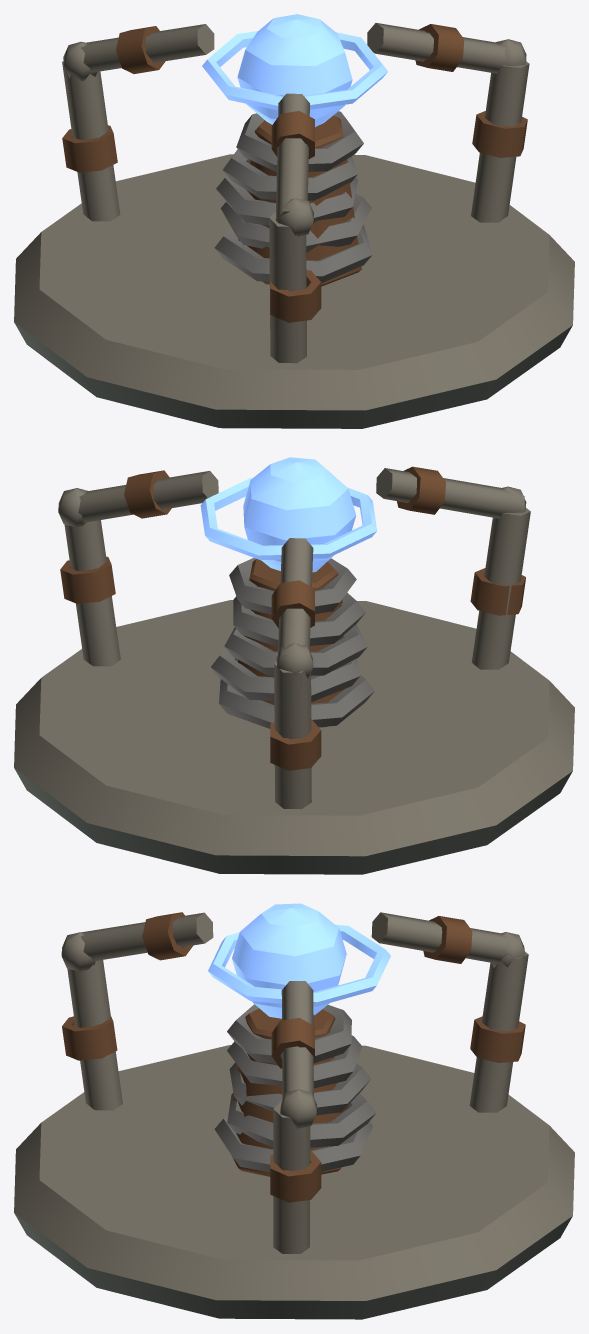
Rendered from R4D_EMPTrap.fbx.
3 views of the same model, one above another, from view 1: azimuth 30°, elevation 25°; view 2: azimuth 150°, elevation 25°; view 3: azimuth 270°, elevation 25° (orthographic).
Visible parts, largest first — view 1: R4D_EMPTrap_Body, R4D_EMPTrap_Core; view 2: R4D_EMPTrap_Body, R4D_EMPTrap_Core; view 3: R4D_EMPTrap_Body, R4D_EMPTrap_Core.
Boxes of the visible parts, x1,y1,x2,y2 form: R4D_EMPTrap_Body: (14,23,574,428); R4D_EMPTrap_Core: (202,14,387,126); R4D_EMPTrap_Body: (14,466,574,874); R4D_EMPTrap_Core: (200,457,376,572); R4D_EMPTrap_Body: (14,912,574,1319); R4D_EMPTrap_Core: (208,903,390,1018).
Size of the model in its own units: 0.4265 by 0.25 by 0.4265.
